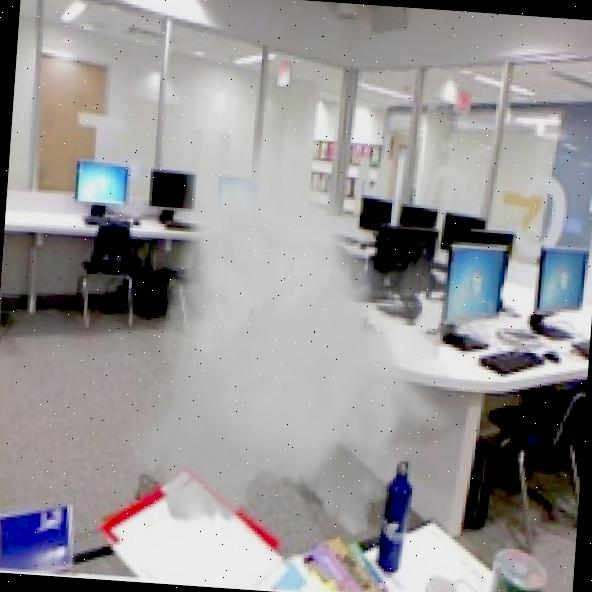smoke: (114, 105, 508, 555)
